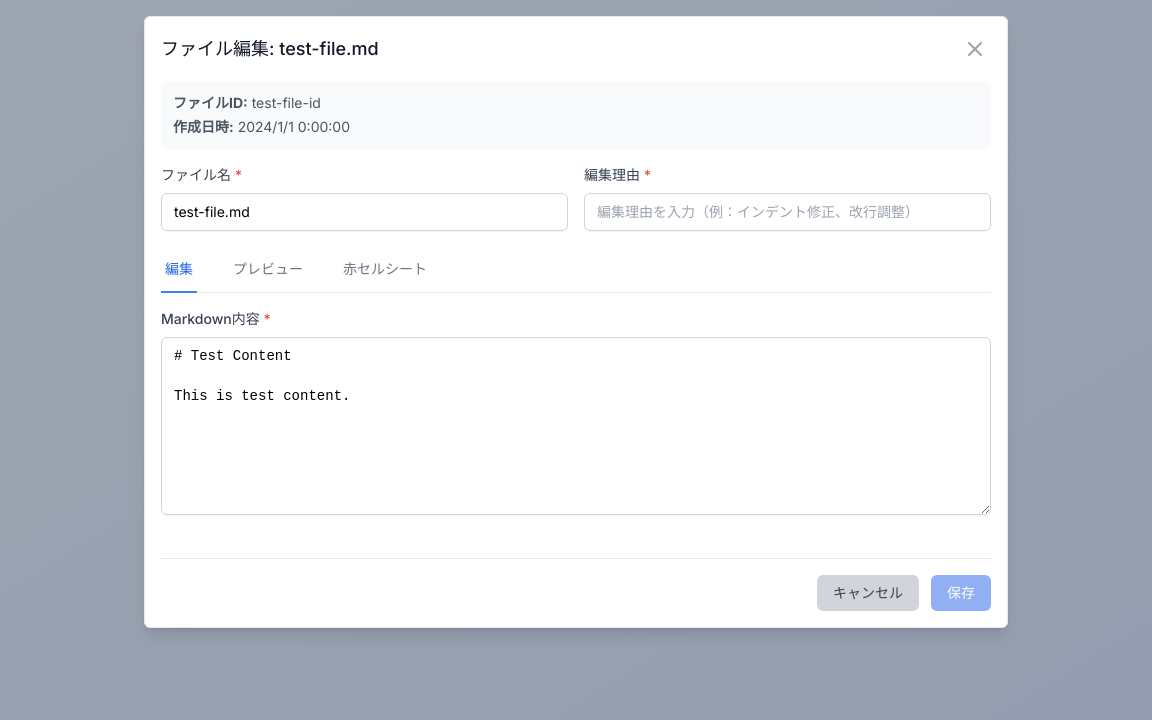
FileEditModal › shows validation errors for empty required fields
The image size is (1152, 720).
Clear the field with test id "edit-filename-input" at (364, 212), box x1=161 y1=193 x2=568 y2=231
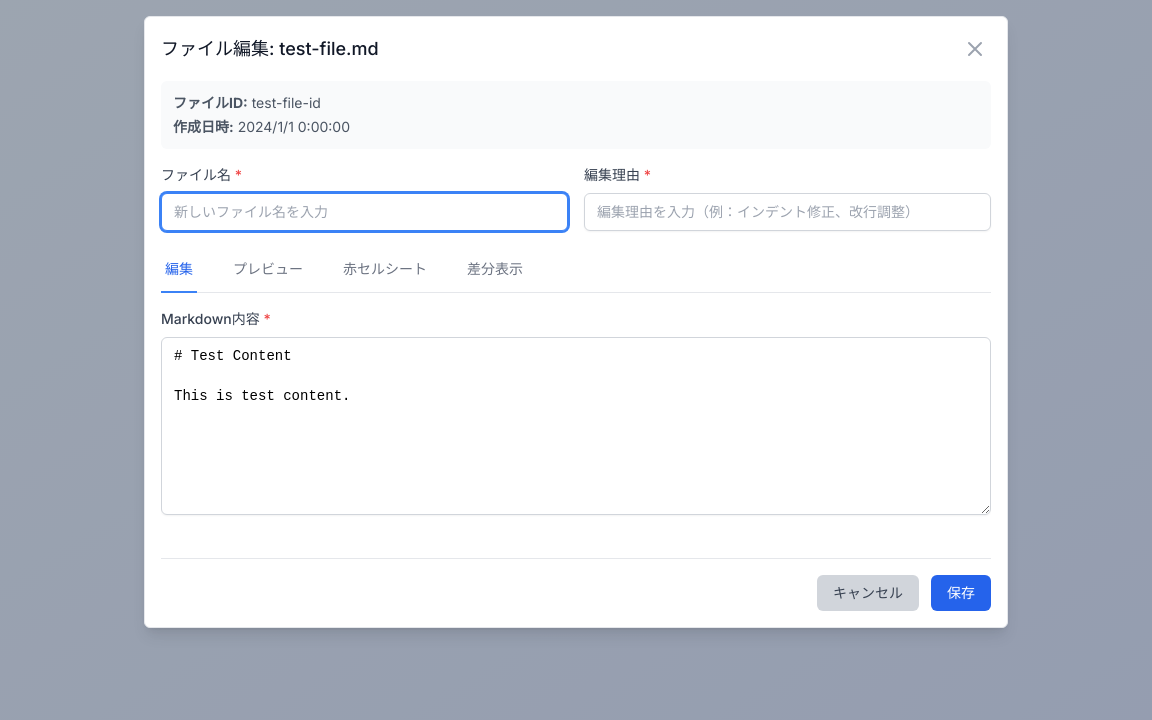
Clear the text box with test id "edit-content-input" at (576, 426), box x1=161 y1=337 x2=991 y2=515
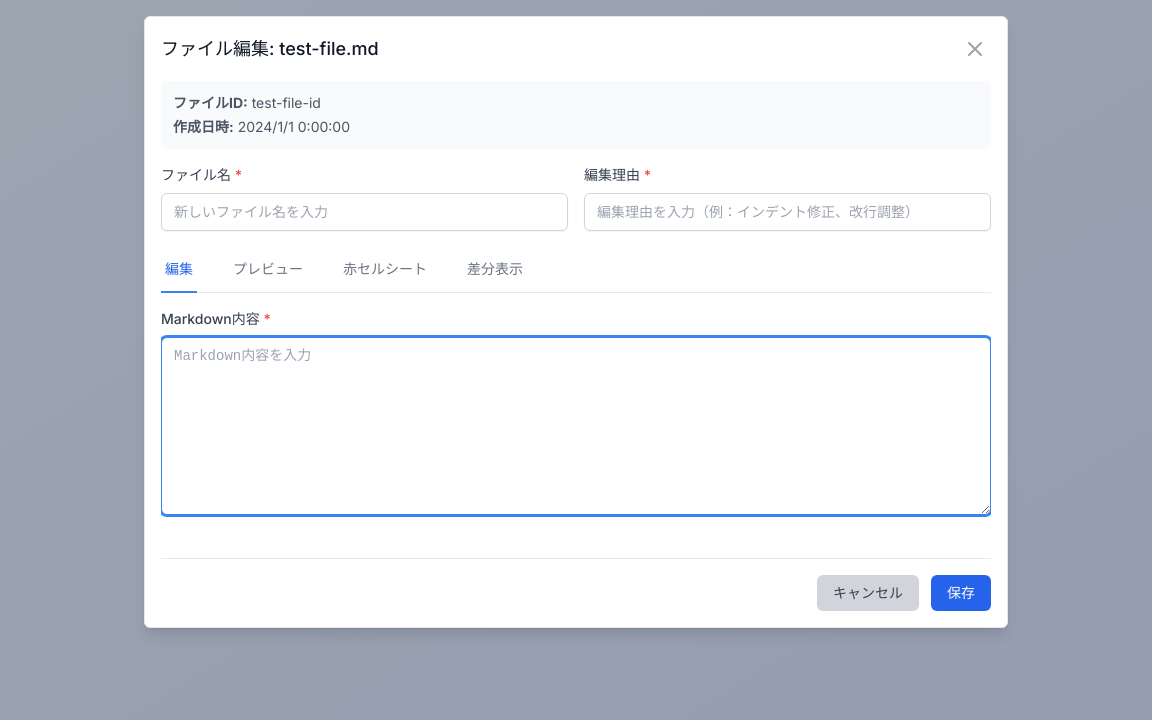
Clear the field with test id "edit-reason-input" at (788, 212), box x1=584 y1=193 x2=991 y2=231
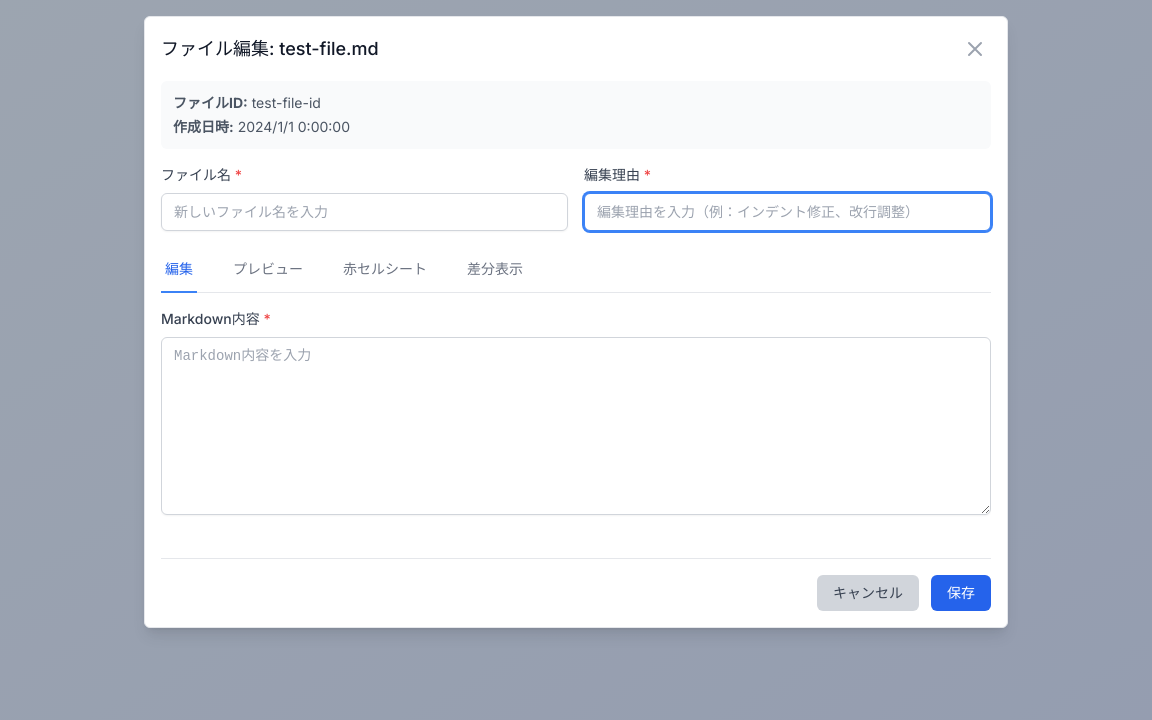
Note: 保存ボタンをクリック
Click the button with test id "edit-modal-save-button" at (961, 593), box x1=931 y1=575 x2=991 y2=611
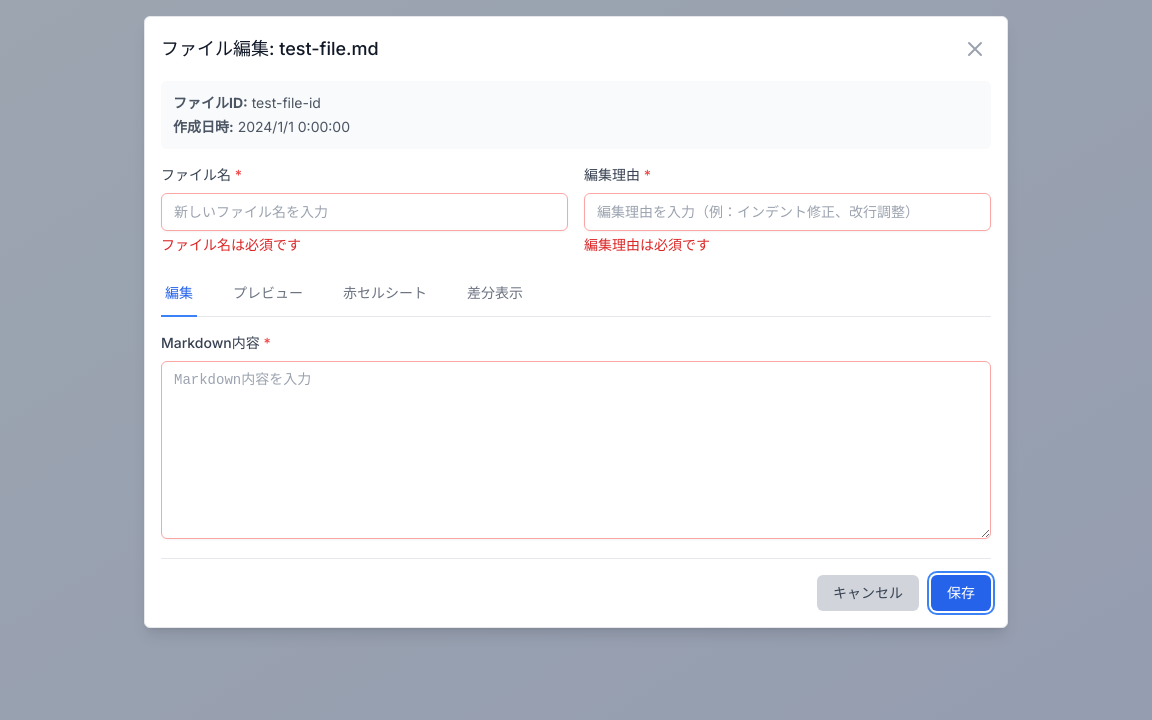
Expected: the text "ファイル名は必須です" is shown, x1=161 y1=236 x2=301 y2=253
Expected: the text "編集理由は必須です" is shown, x1=584 y1=236 x2=710 y2=253
